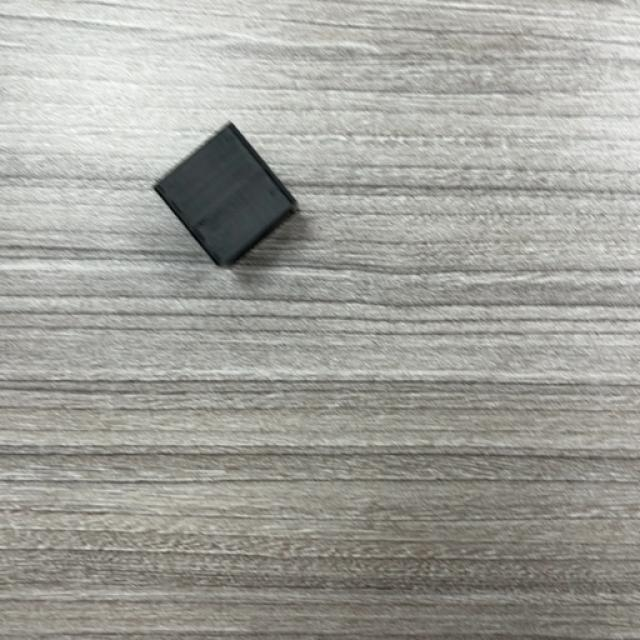Negro: (152, 124, 301, 269)
